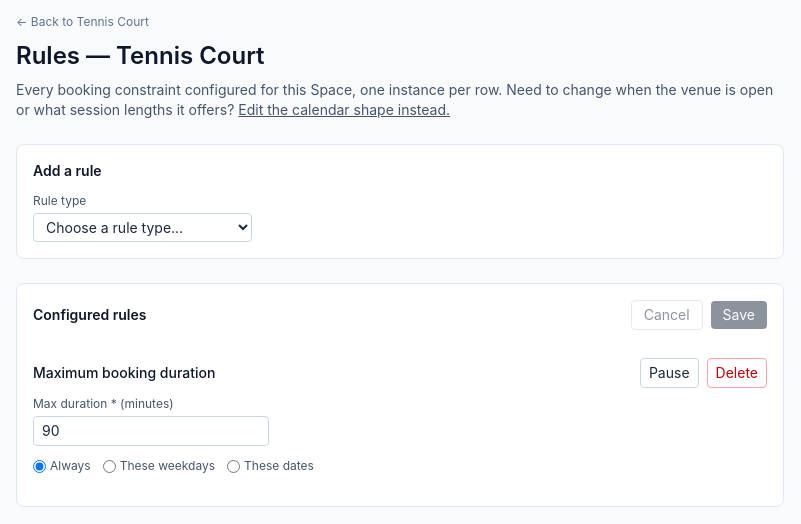
Scenario: SpaceRulesPage — page-level save › disables Save on arrival, enables it once a row is edited, and disables it again once the edit is undone
Check: the button with test id "rules-save" is disabled, box top-left (711, 301), bottom-right (767, 329)
Replace the text in the number field with test id "rule-100-param-max_duration_minutes" with "120" at [151, 431], box top-left (33, 416), bottom-right (269, 446)
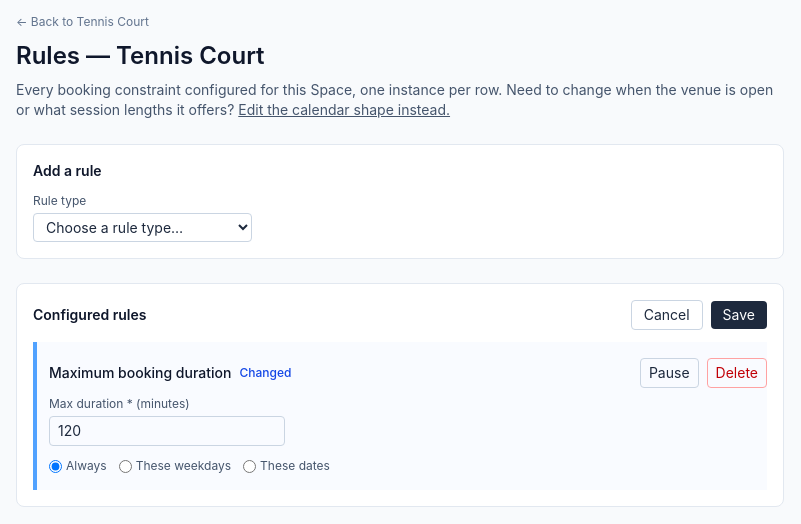
Check: the button with test id "rules-save" is enabled, box top-left (711, 301), bottom-right (767, 329)
Check: the text "Changed" is shown, box top-left (239, 365), bottom-right (291, 381)
Replace the text in the number field with test id "rule-100-param-max_duration_minutes" with "90" at [167, 431], box top-left (49, 416), bottom-right (285, 446)
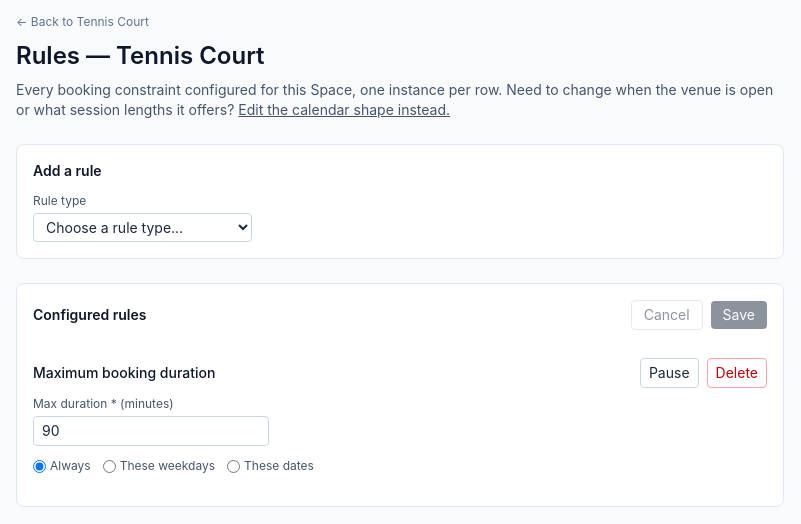
Check: the button with test id "rules-save" is disabled, box top-left (711, 301), bottom-right (767, 329)
Check: the text with test id "rule-100-changed" is gone
